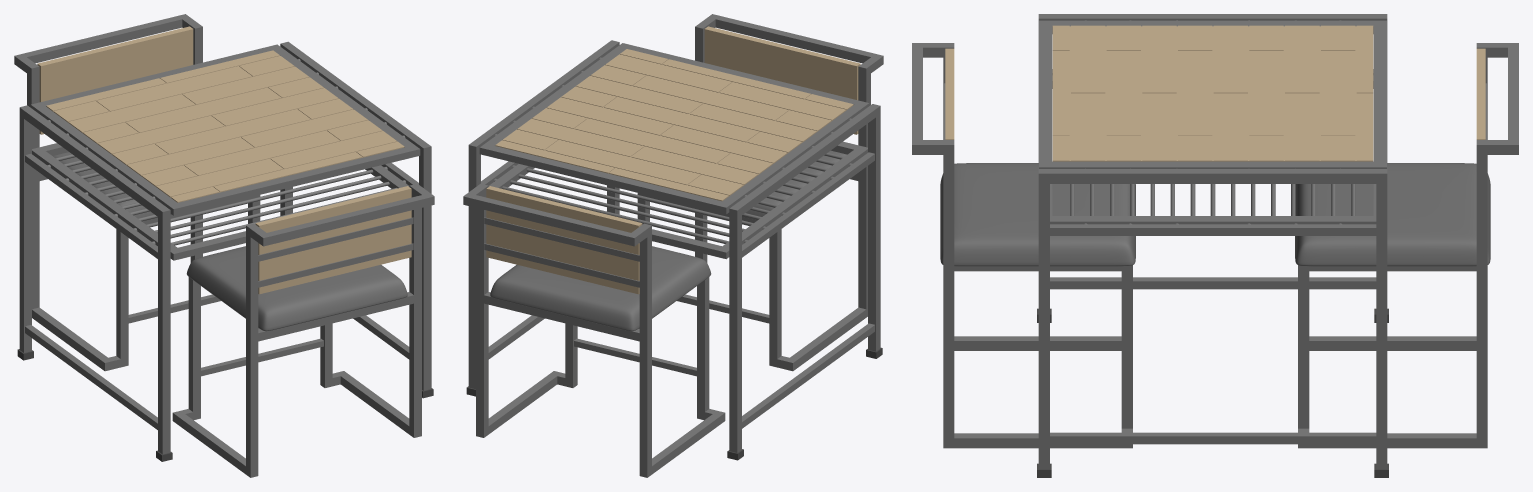
The model's file is 596_ダイニングテーブルセット2人掛け.glb.
3 views of the same model, side by side, from view 1: azimuth 30°, elevation 25°; view 2: azimuth 150°, elevation 25°; view 3: azimuth 270°, elevation 25° (orthographic). The views are drawn at different scales.
Parts seen in each view (by area): view 1: Body, chair2, chair1; view 2: Body, chair1, chair2; view 3: Body, chair1, chair2.
Part boxes in pixels (x1,y1,x2,y2): Body: (17,41,433,461); chair2: (172,183,434,477); chair1: (14,14,260,371); Body: (466,40,882,460); chair1: (463,183,725,477); chair2: (637,14,883,371); Body: (1037,14,1388,477); chair1: (1295,43,1518,448); chair2: (912,43,1135,448).
Bounding box in the file's own units: 0.855 × 0.752 × 1.36.
